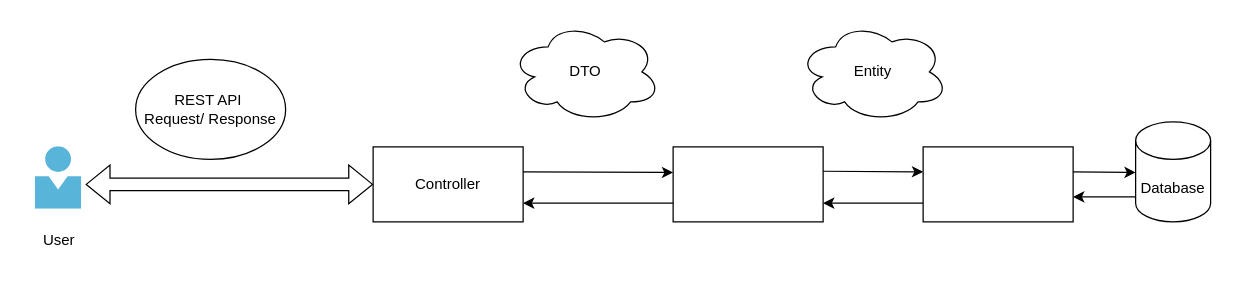
The diagram is 1233 pixels wide and 281 high, and some of its shapes have lost their labels. Here are the shapes that lost their labels. From the top down, the box of each, then its label:
(672, 146, 823, 222): Service
(922, 146, 1073, 222): Database/Repository Layer
